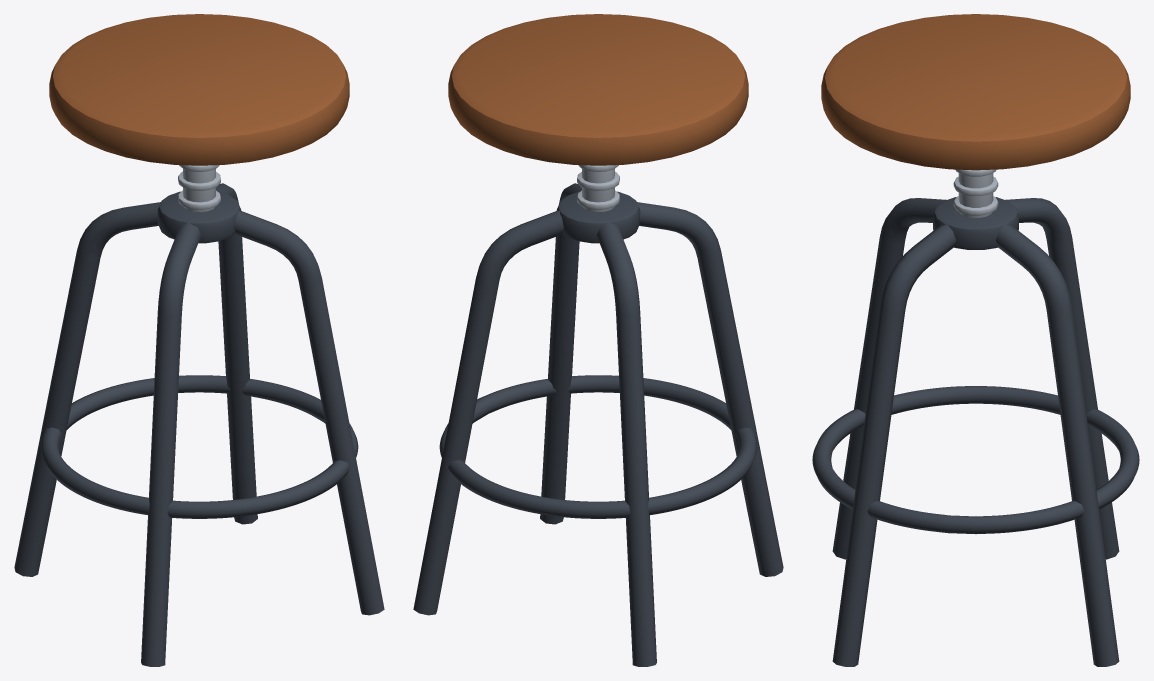
The model's file is banqueta_industrial_madeira.glb.
The picture shows the model from 3 angles, left to right: view 1: azimuth 30°, elevation 25°; view 2: azimuth 150°, elevation 25°; view 3: azimuth 270°, elevation 25°; orthographic projection. The views are drawn at different scales.
Visible parts, largest first — view 1: banqueta_industrial_madeira; view 2: banqueta_industrial_madeira; view 3: banqueta_industrial_madeira.
Part boxes in pixels (<box>): banqueta_industrial_madeira: <box>14,14,384,666</box>; banqueta_industrial_madeira: <box>413,14,783,666</box>; banqueta_industrial_madeira: <box>812,14,1139,666</box>.
Bounding box in the file's own units: 0.3814 × 0.6877 × 0.3808.
1 material, 1 textured.
